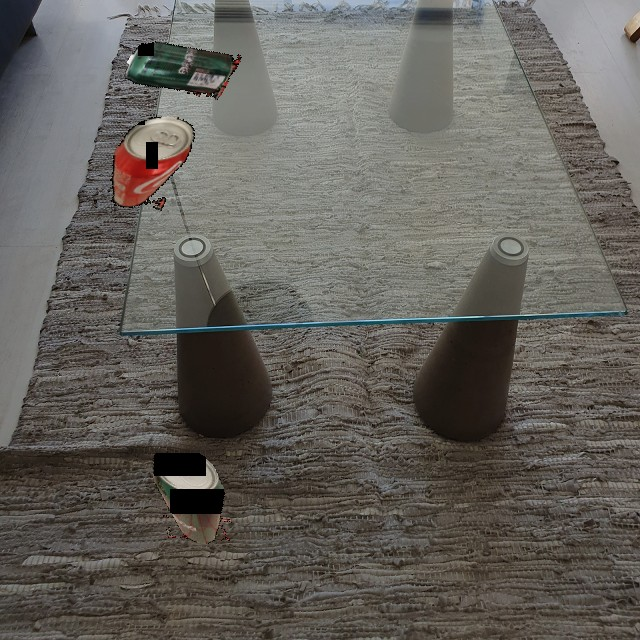coca cola: (91, 103, 205, 223)
schweppes: (125, 10, 243, 109), (153, 453, 234, 544)
